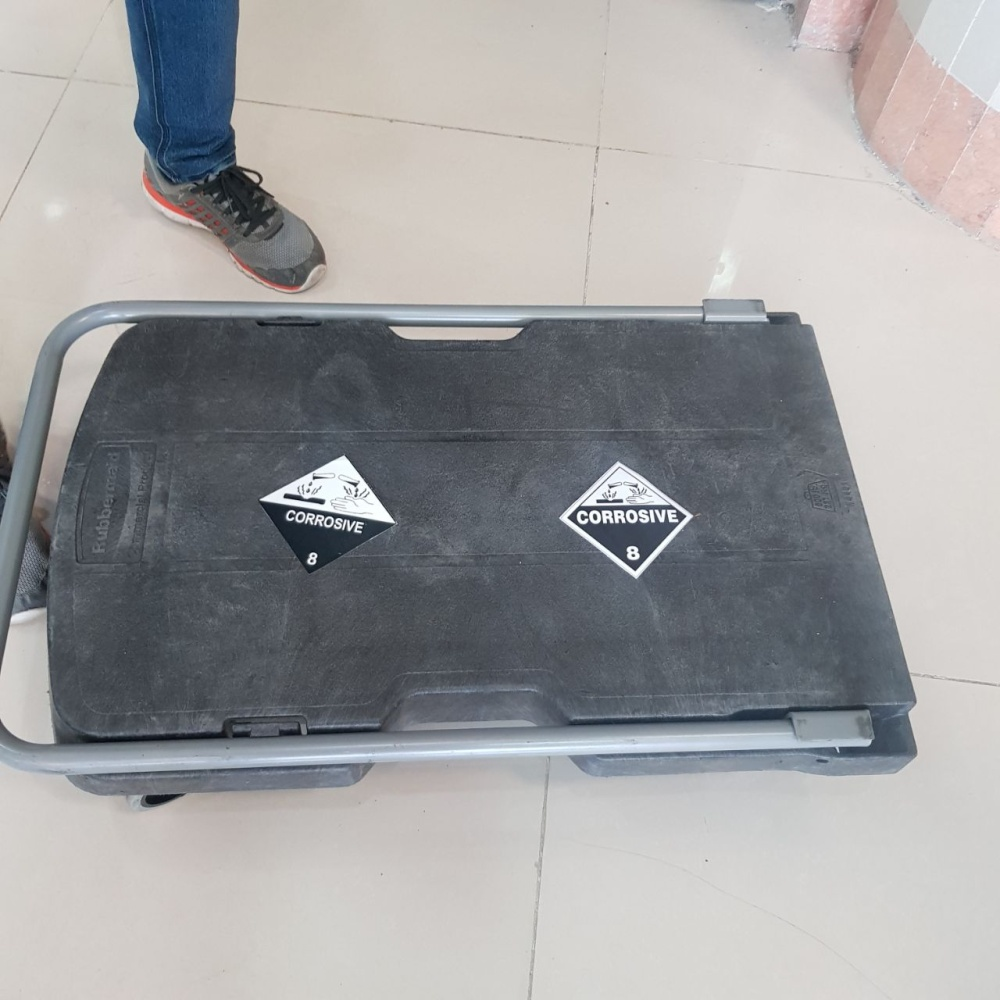Corrosive: (258, 455, 396, 573), (559, 460, 693, 579)
